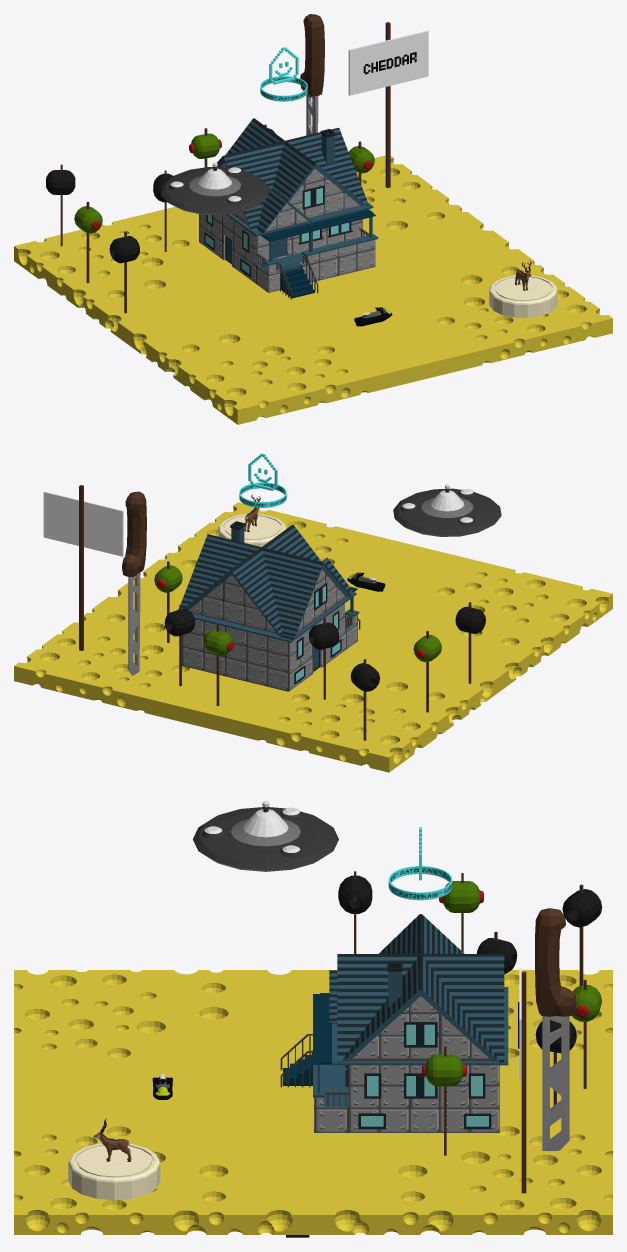
The picture shows the model from 3 angles, top to bottom: view 1: azimuth 30°, elevation 25°; view 2: azimuth 150°, elevation 25°; view 3: azimuth 270°, elevation 25°; orthographic projection. The views are drawn at different scales.
Visible parts, largest first — view 1: Cube.022, Cube.078, Cube.023, OBJRANDOM_UFO, Cylinder.016, Cube.024, TYPE_PREMIUM, Sphere.017, Sphere.016, Sphere.018, Sphere.022, Sphere.019; view 2: Cube.022, Cube.078, Cube.023, OBJRANDOM_UFO, Cube.024, Cylinder.016, TYPE_PREMIUM, Sphere.017, Sphere.022, Sphere.016, Sphere.020, Sphere.021 (+3 smaller); view 3: Cube.022, Cube.078, OBJRANDOM_UFO, Cube.024, Cylinder.016, Cube.023, Sphere.016, Sphere.019, TYPE_PREMIUM, Sphere.017, Sphere.018, Sphere.022 (+2 smaller).
Boxes of the visible parts, <box> form: Cube.022: <box>14,155,612,424</box>; Cube.078: <box>199,118,378,299</box>; Cube.023: <box>348,22,428,188</box>; OBJRANDOM_UFO: <box>161,162,269,215</box>; Cylinder.016: <box>489,275,557,317</box>; Cube.024: <box>300,14,324,135</box>; TYPE_PREMIUM: <box>260,47,307,101</box>; Sphere.017: <box>109,231,139,313</box>; Sphere.016: <box>46,164,75,246</box>; Sphere.018: <box>74,201,102,283</box>; Sphere.022: <box>189,128,221,167</box>; Sphere.019: <box>348,141,374,184</box>; Cube.022: <box>14,502,612,772</box>; Cube.078: <box>177,521,360,691</box>; Cube.023: <box>43,485,123,650</box>; OBJRANDOM_UFO: <box>393,484,501,536</box>; Cube.024: <box>122,491,146,675</box>; Cylinder.016: <box>218,514,285,546</box>; TYPE_PREMIUM: <box>239,453,286,507</box>; Sphere.017: <box>455,602,485,683</box>; Sphere.022: <box>203,624,233,705</box>; Sphere.016: <box>350,659,379,740</box>; Sphere.020: <box>309,618,339,699</box>; Sphere.021: <box>164,604,195,686</box>; Cube.022: <box>14,970,612,1234</box>; Cube.078: <box>280,914,508,1132</box>; OBJRANDOM_UFO: <box>193,801,338,871</box>; Cube.024: <box>535,908,576,1151</box>; Cylinder.016: <box>68,1143,160,1200</box>; Cube.023: <box>518,968,526,1193</box>; Sphere.016: <box>562,884,602,985</box>; Sphere.019: <box>422,1046,466,1155</box>; TYPE_PREMIUM: <box>388,827,452,900</box>; Sphere.017: <box>338,871,372,953</box>; Sphere.018: <box>439,873,483,952</box>; Sphere.022: <box>572,979,601,1088</box>.
Bounding box in the file's own units: 3917 × 2232 × 4000.
Materials: 32 (6 with a texture image).
